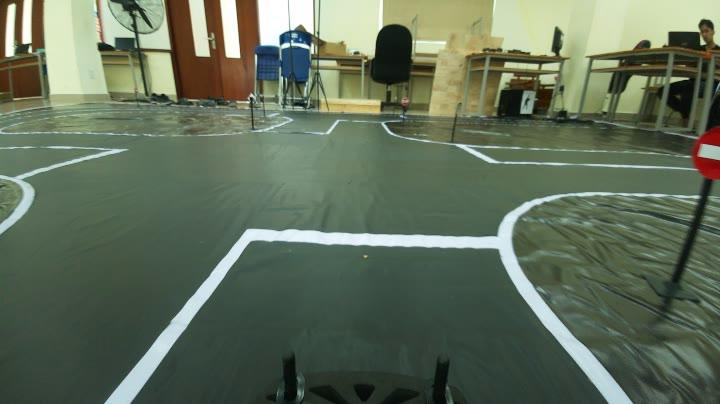no_entry: (685, 122, 720, 180)
